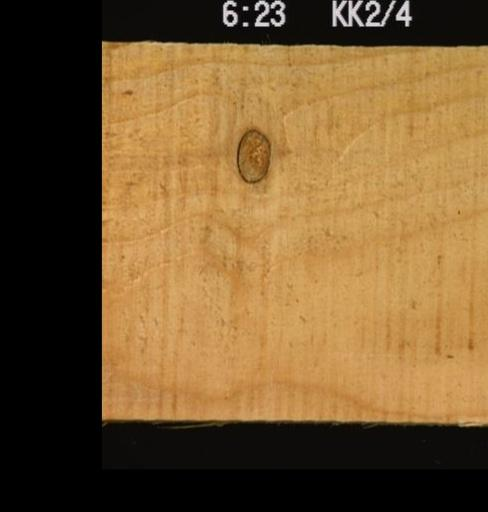dry_knot: (234, 126, 272, 183)
